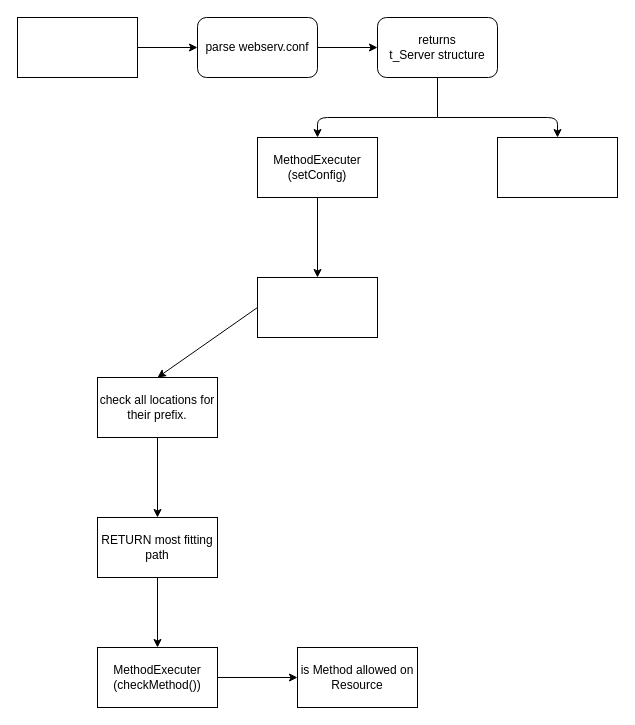
Image size: 635x725. Some labels were removed from this diagram. The shapes that lost their labels are listed below. From the top down, each one's centre as x and y in pixels, then its label:
At [77,47]: "ConfigFileParser".
At [557,167]: "ResponseBuilder (setConfit())".
At [317,307]: "check if RequestURI settings have been set for this t_location.".
